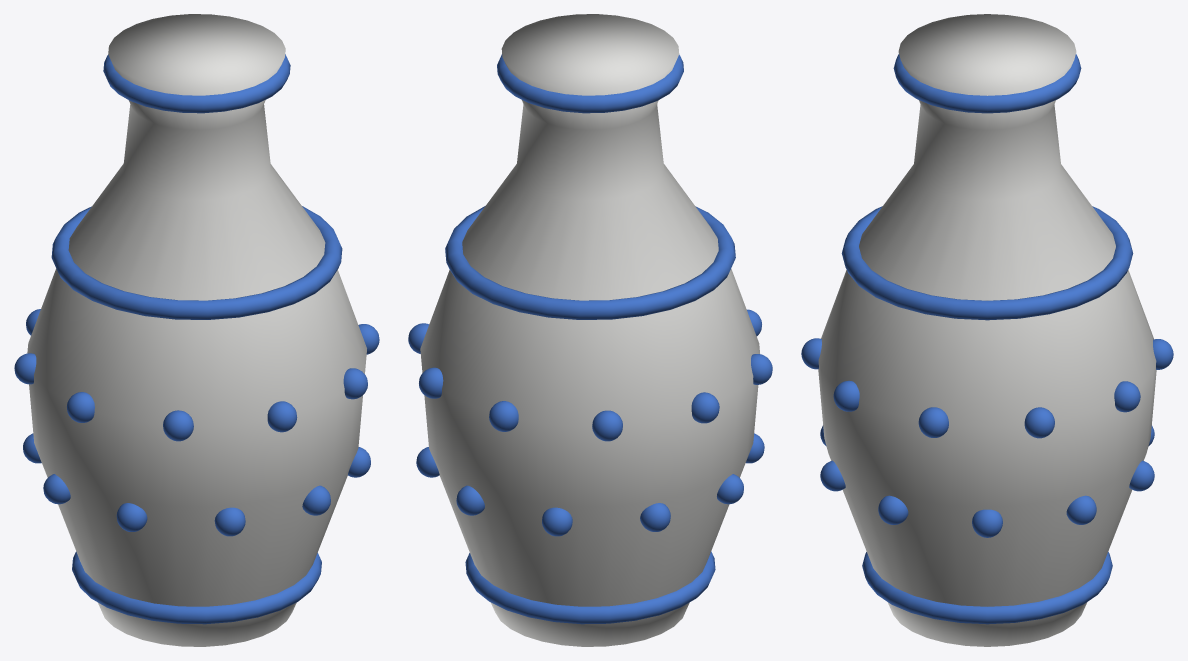
Rendered from shelf_vase.glb.
The picture shows the model from 3 angles, left to right: view 1: azimuth 30°, elevation 25°; view 2: azimuth 150°, elevation 25°; view 3: azimuth 270°, elevation 25°; orthographic projection.
Parts seen in each view (by area): view 1: shelf_vase; view 2: shelf_vase; view 3: shelf_vase.
Boxes of the visible parts, x1,y1,x2,y2 form: shelf_vase: (14,14,379,646); shelf_vase: (408,14,772,646); shelf_vase: (801,14,1173,646).
Size of the model in its own units: 0.096 by 0.165 by 0.1004.
